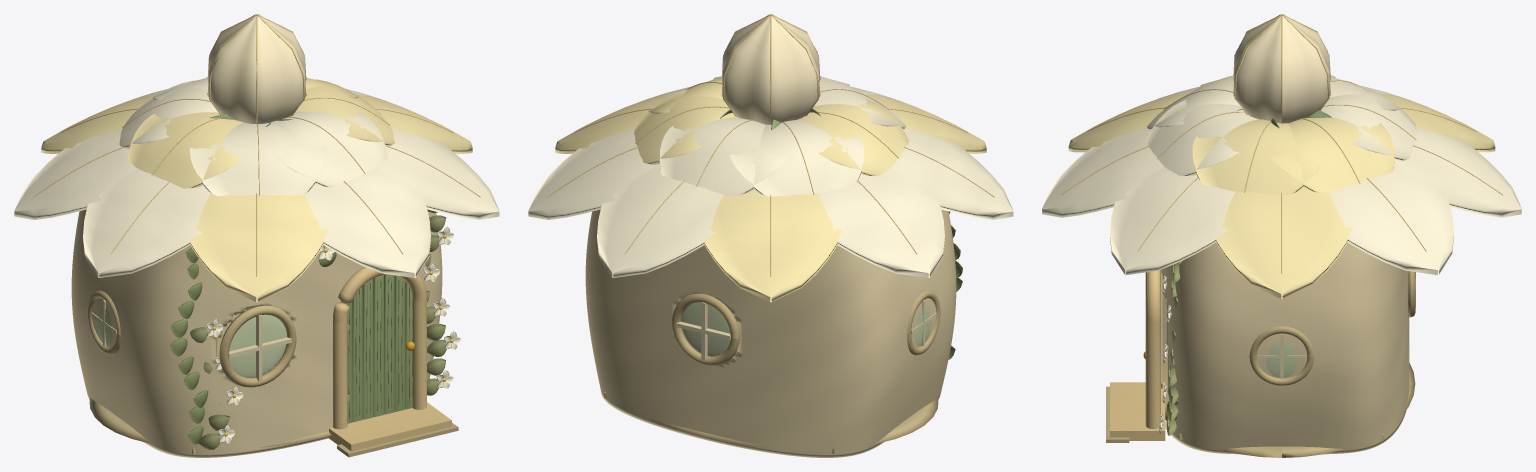
File: garden3d_cottage.glb
The picture shows the model from 3 angles, left to right: view 1: azimuth 30°, elevation 25°; view 2: azimuth 150°, elevation 25°; view 3: azimuth 270°, elevation 25°; orthographic projection.
Visible parts, largest first — view 1: Roof / petal tier 1 (×2), House / thick shell with architectural openings, Roof / petal tier 2 (×2), Door / individual rounded planks, Roof / six-lobed flower bud, Ivy / separate leaves (×2), House / bevelled door surround, House / entrance step, Windows / timber circular frame, Windows / inset opaque glass, Ivy / daisies / sculpted petals, Door / carved grain (+5 smaller); view 2: House / thick shell with architectural openings, Roof / petal tier 1 (×2), Roof / petal tier 2 (×2), Roof / six-lobed flower bud, Windows / timber circular frame, Roof / raised petal veins, Windows / inset opaque glass, House / stone foundation, Windows / side round frame, Roof / bud petal seams; view 3: Roof / petal tier 1 (×2), House / thick shell with architectural openings, Roof / petal tier 2 (×2), Roof / six-lobed flower bud, House / bevelled door surround, House / entrance step, Roof / raised petal veins, House / stone foundation, Windows / side round frame, Ivy / separate leaves, Roof / bud petal seams, Windows / side glass.
Part boxes in pixels (left/top/right/bottom): Roof / petal tier 1 (×2): left=14, top=88, right=499, bottom=302; House / thick shell with architectural openings: left=71, top=209, right=442, bottom=457; Roof / petal tier 2 (×2): left=119, top=77, right=394, bottom=196; Door / individual rounded planks: left=346, top=274, right=412, bottom=423; Roof / six-lobed flower bud: left=207, top=15, right=306, bottom=123; Ivy / separate leaves (×2): left=170, top=209, right=446, bottom=449; House / bevelled door surround: left=332, top=266, right=426, bottom=429; House / entrance step: left=328, top=402, right=451, bottom=451; Windows / timber circular frame: left=219, top=305, right=296, bottom=387; Windows / inset opaque glass: left=229, top=314, right=286, bottom=377; Ivy / daisies / sculpted petals: left=206, top=227, right=460, bottom=443; Door / carved grain: left=348, top=278, right=412, bottom=418; House / thick shell with architectural openings: left=585, top=209, right=956, bottom=457; Roof / petal tier 1 (×2): left=528, top=86, right=1013, bottom=302; Roof / petal tier 2 (×2): left=634, top=76, right=909, bottom=196; Roof / six-lobed flower bud: left=721, top=15, right=820, bottom=124; Windows / timber circular frame: left=671, top=293, right=739, bottom=365; Roof / raised petal veins: left=547, top=81, right=994, bottom=276; Windows / inset opaque glass: left=681, top=303, right=730, bottom=356; House / stone foundation: left=649, top=332, right=938, bottom=447; Windows / side round frame: left=907, top=290, right=940, bottom=355; Roof / bud petal seams: left=723, top=14, right=818, bottom=124; Roof / petal tier 1 (×2): left=1042, top=85, right=1521, bottom=298; House / thick shell with architectural openings: left=1161, top=243, right=1409, bottom=454; Roof / petal tier 2 (×2): left=1145, top=75, right=1416, bottom=194; Roof / six-lobed flower bud: left=1233, top=15, right=1330, bottom=123; House / bevelled door surround: left=1145, top=270, right=1160, bottom=428; House / entrance step: left=1110, top=382, right=1165, bottom=440; Roof / raised petal veins: left=1061, top=80, right=1502, bottom=273; House / stone foundation: left=1162, top=355, right=1415, bottom=457; Windows / side round frame: left=1249, top=326, right=1314, bottom=385; Ivy / separate leaves: left=1166, top=261, right=1181, bottom=435; Roof / bud petal seams: left=1234, top=14, right=1329, bottom=123; Windows / side glass: left=1266, top=341, right=1297, bottom=377.
Bounding box in the file's own units: 11.12 × 9.81 × 11.29.
